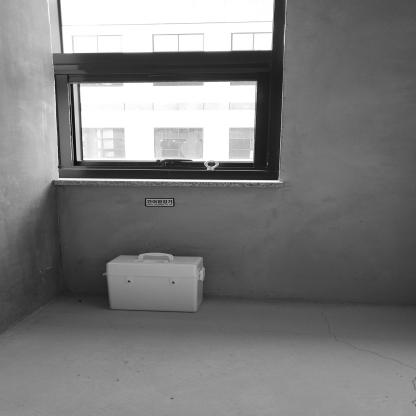DDL: (102, 252, 204, 312)
